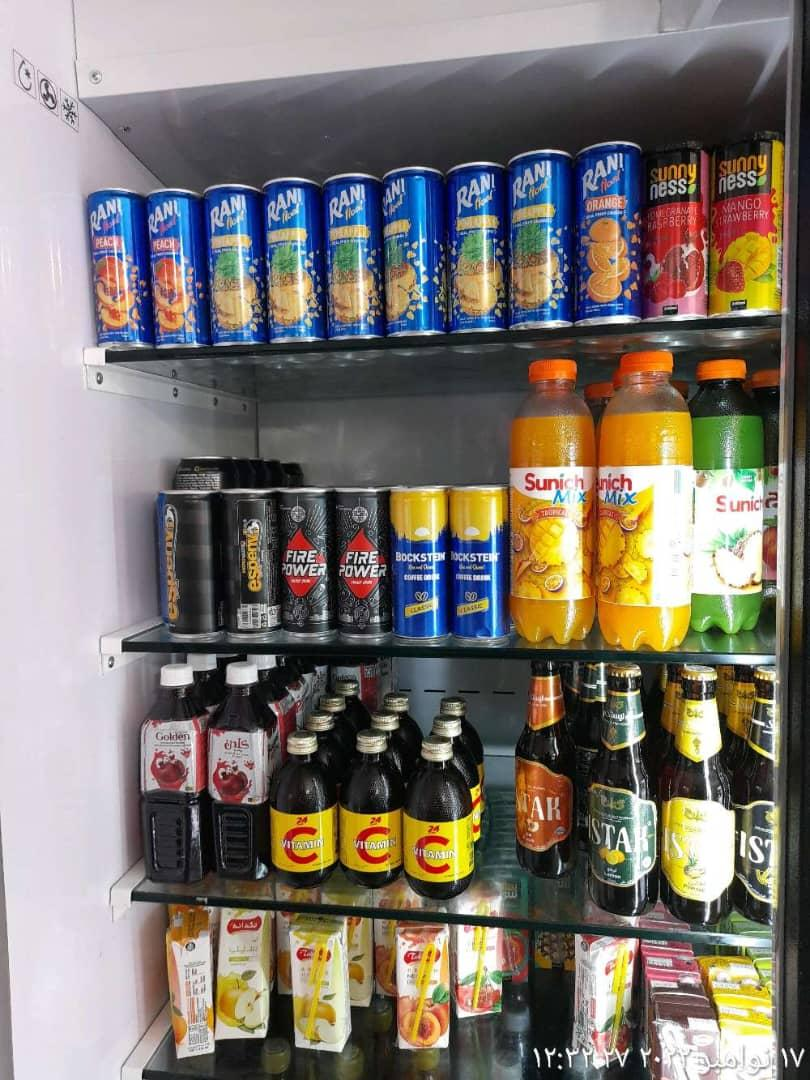Peach: (84, 200, 148, 346), (146, 200, 204, 349)
Pineapple: (324, 182, 393, 340), (258, 188, 327, 344), (510, 160, 571, 310), (452, 168, 508, 314)
